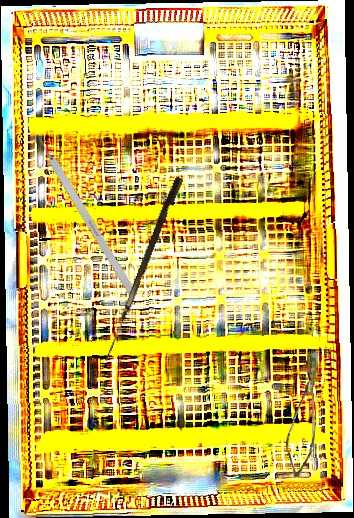Hook Surgical: (28, 124, 139, 299), (104, 174, 184, 366)
Micro Scissor: (283, 366, 322, 478)
